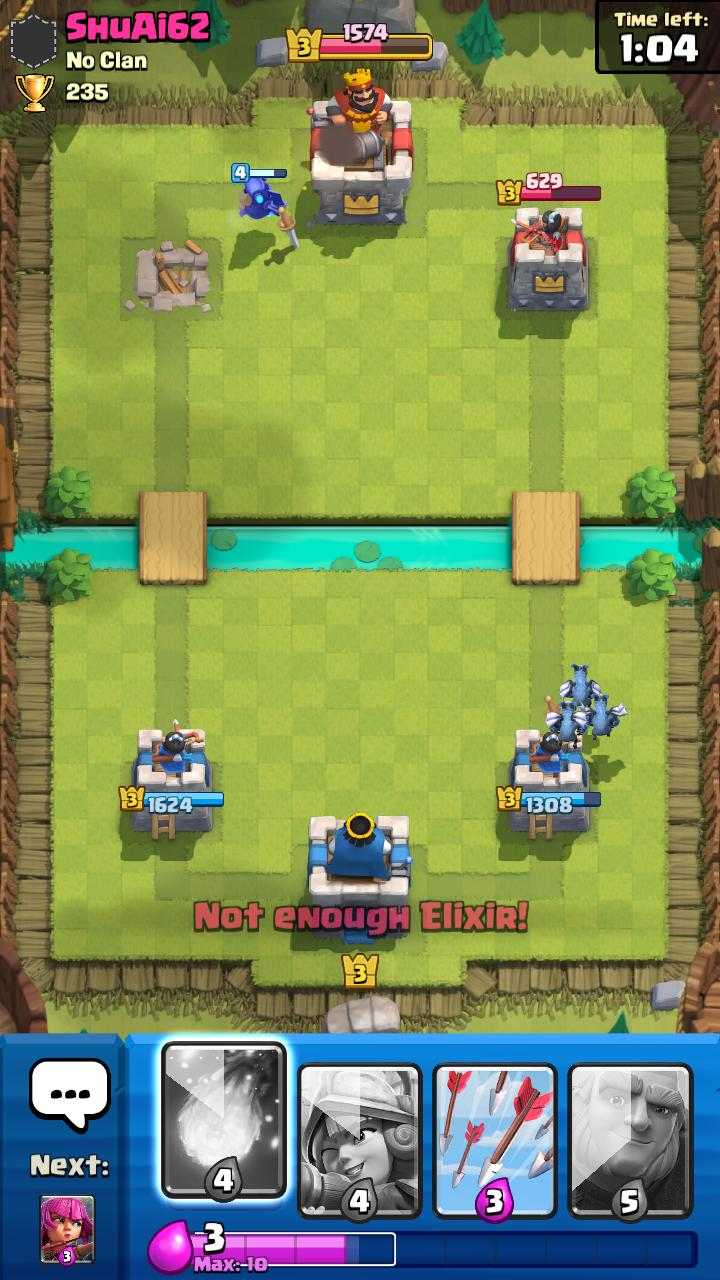ally: (231, 163, 288, 220), (578, 694, 629, 740), (545, 700, 589, 750), (559, 664, 602, 708)
